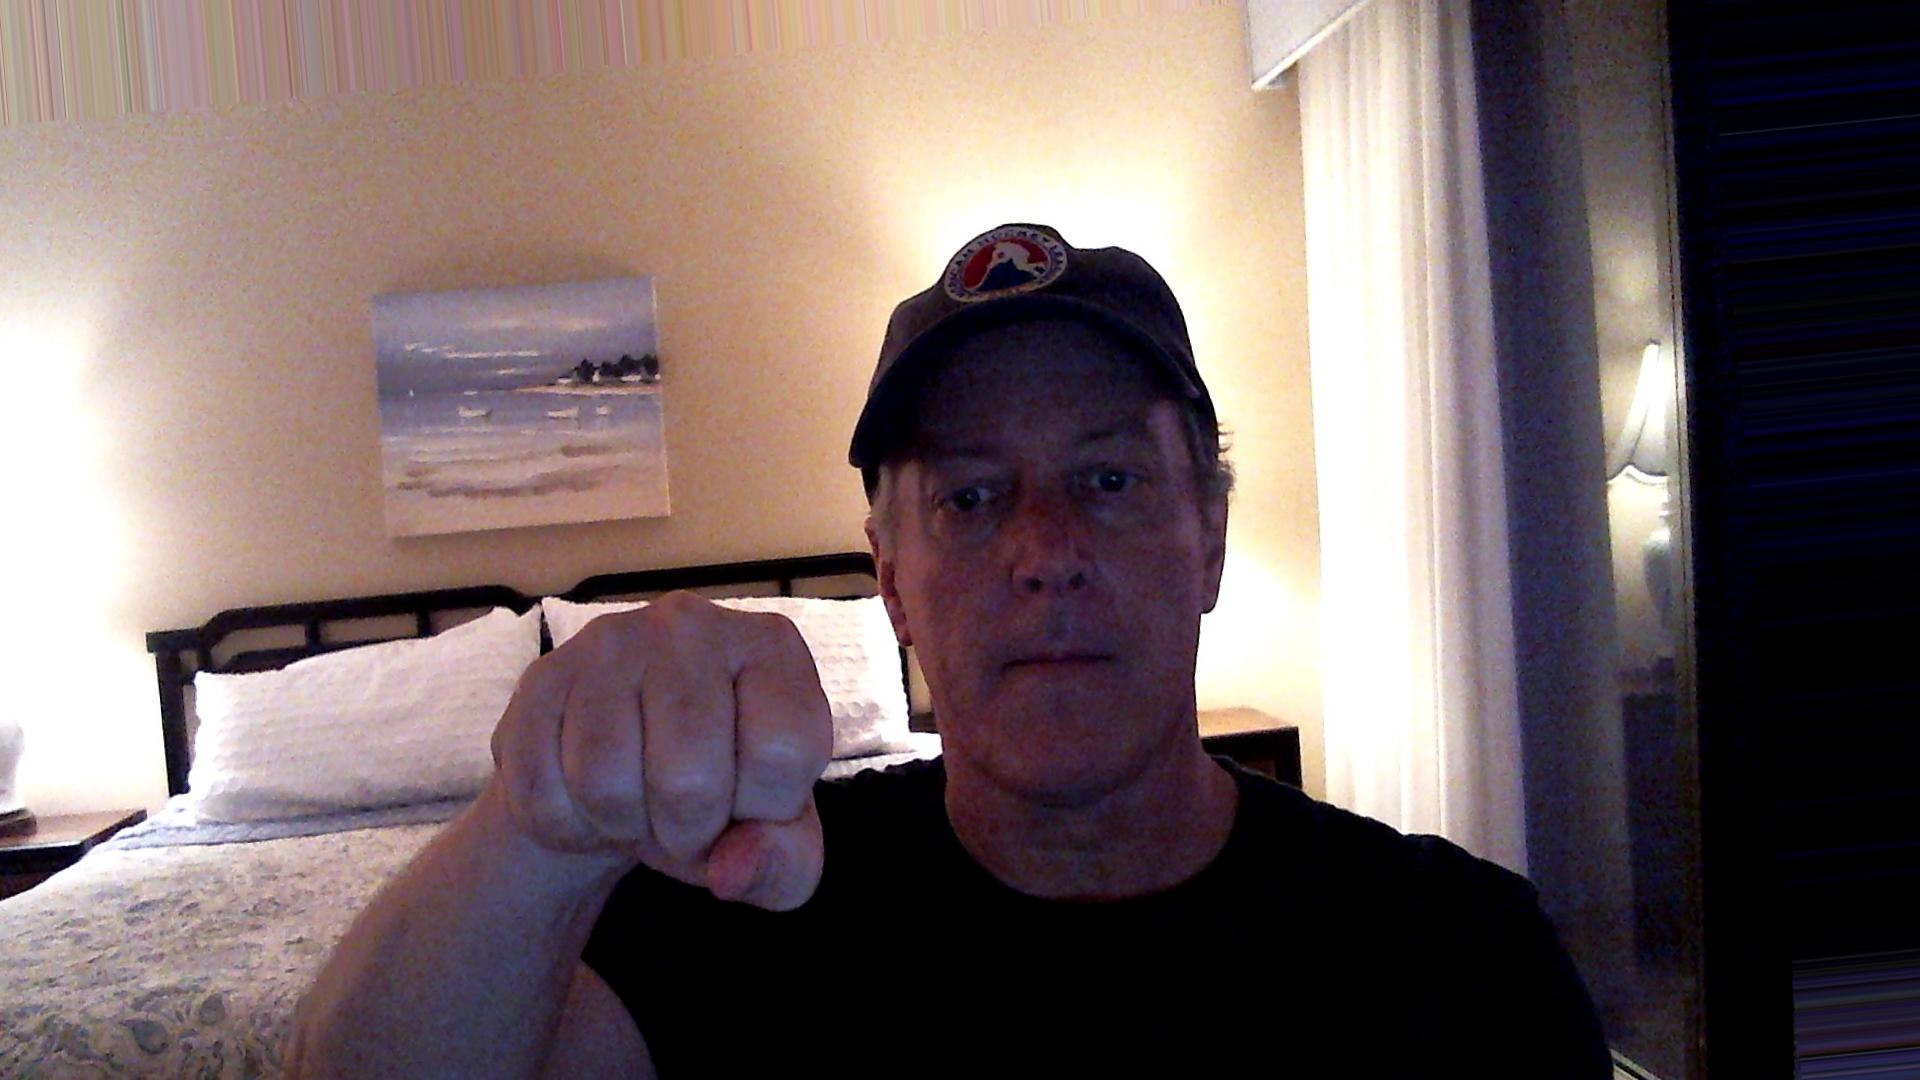Yes: (451, 562, 881, 945)
